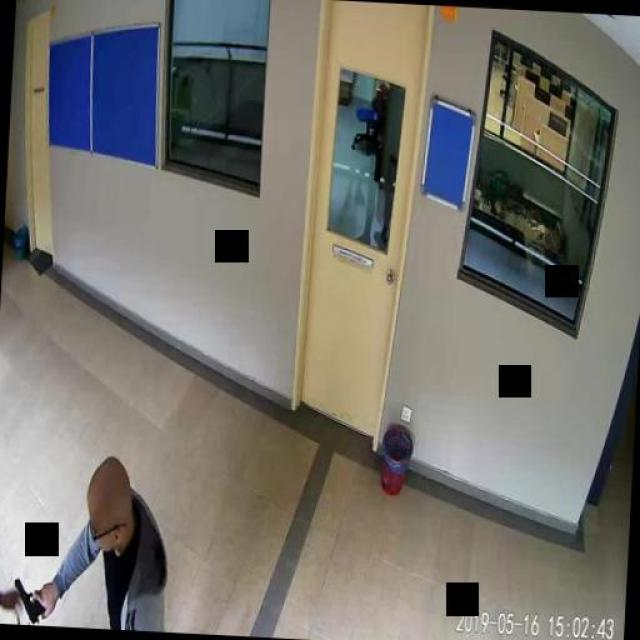gun: (12, 576, 48, 622)
